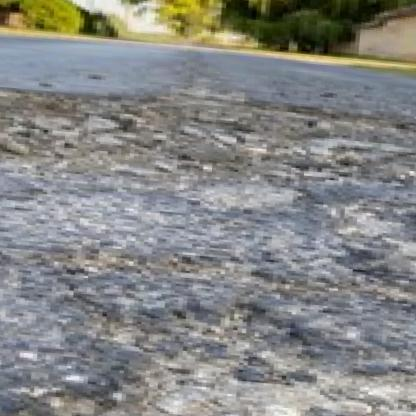pothole: (0, 62, 416, 211), (105, 305, 383, 416)
